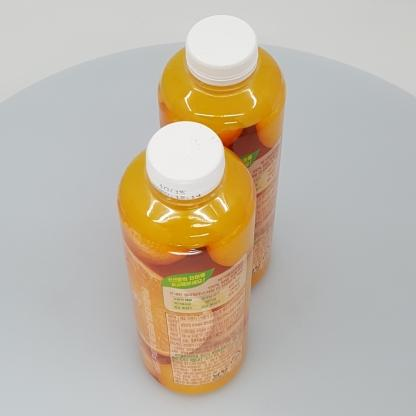-------730ML: (118, 121, 256, 394), (158, 15, 286, 287)
